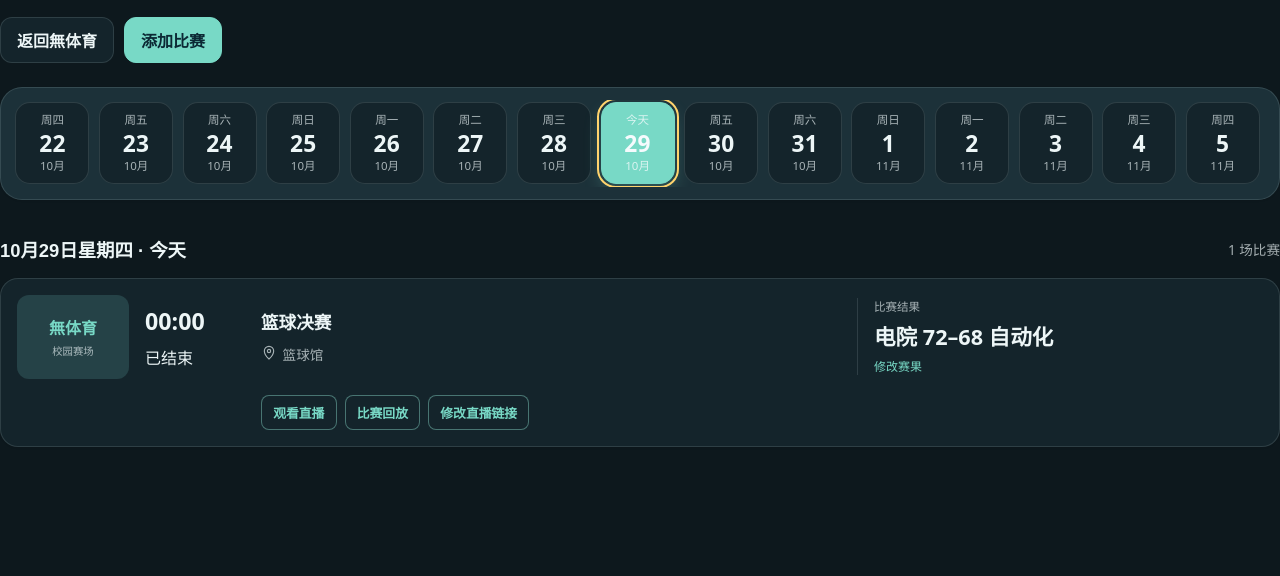
it: SportsMatchesPage › blocks unsafe live links before saving and permits removing a link
This screenshot has width=1280, height=576.
Click the button "修改直播链接" at point(479, 412), box left=428, top=395, right=529, bottom=430
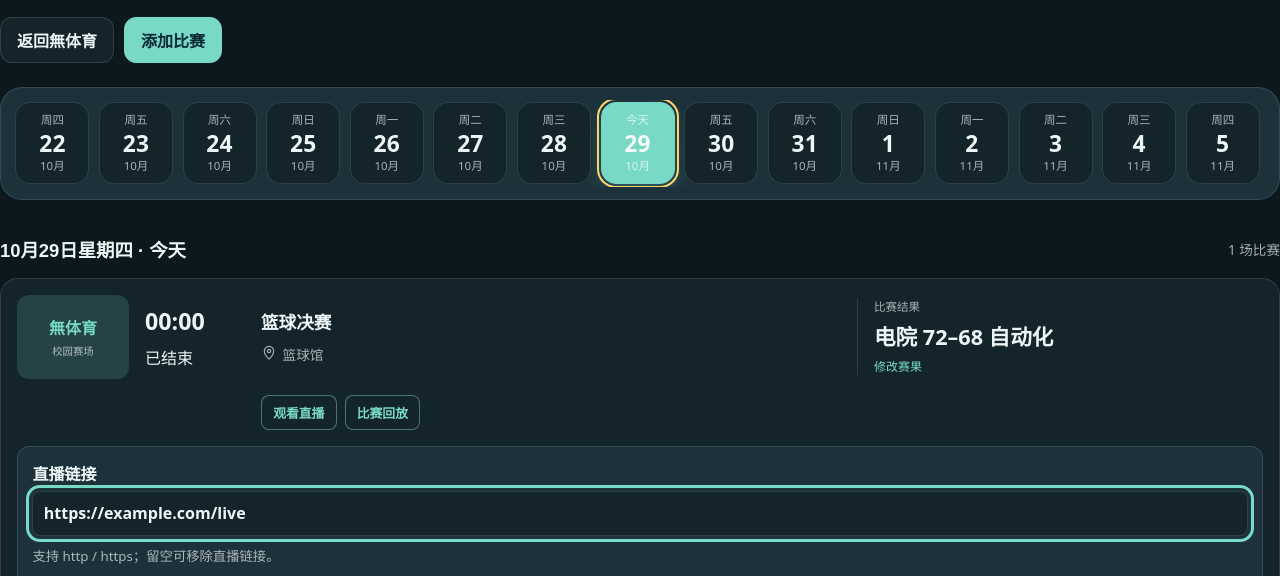
Replace the text in the field named "篮球决赛直播链接" with "javascript:alert(1)" at point(640, 513), box left=32, top=491, right=1248, bottom=536
(page scrolled)
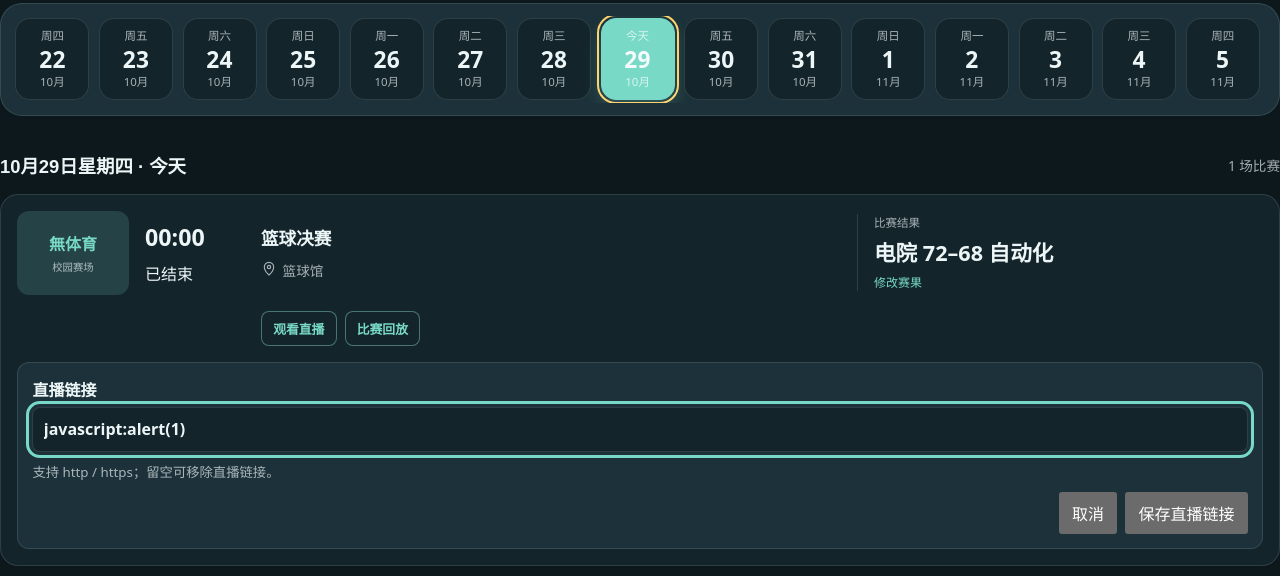
Submit the form, box left=17, top=362, right=1263, bottom=549
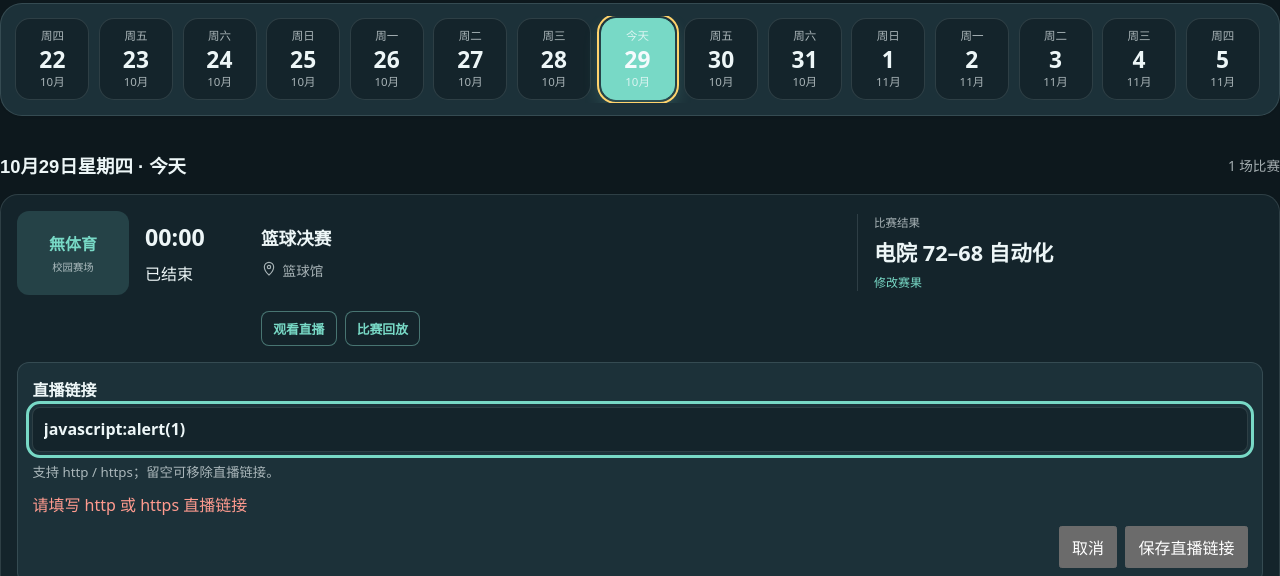
Check: the message shows "http 或 https", box left=32, top=494, right=247, bottom=516
Clear the field named "篮球决赛直播链接" at point(640, 429), box left=32, top=407, right=1248, bottom=452
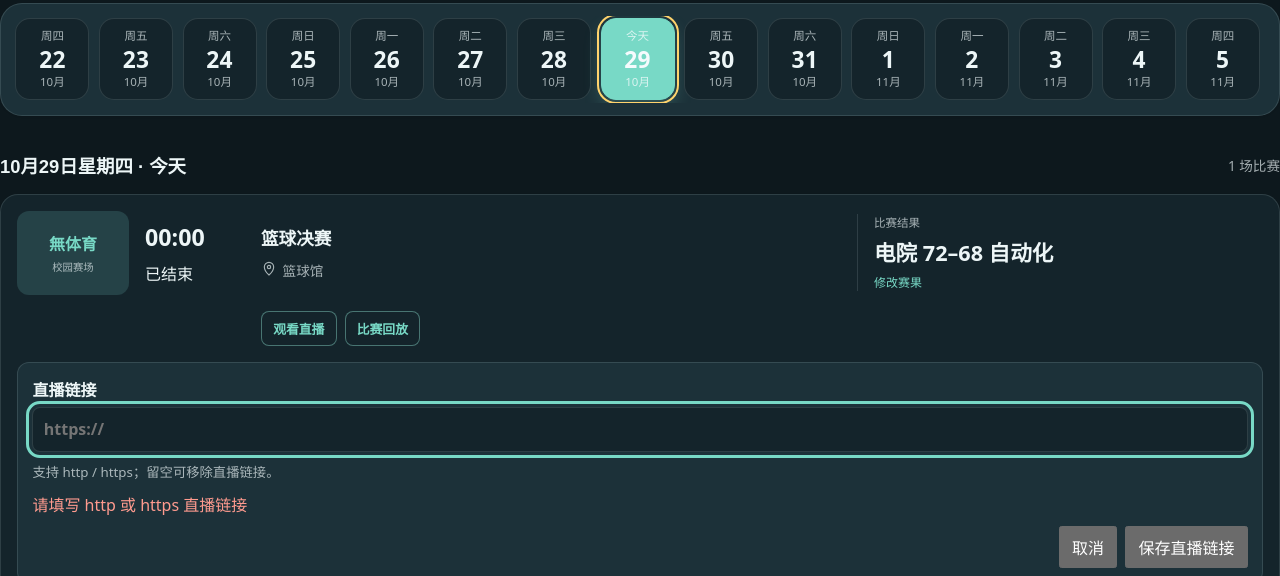
Click the button "保存直播链接" at point(1186, 547), box left=1125, top=526, right=1248, bottom=568
(page scrolled)
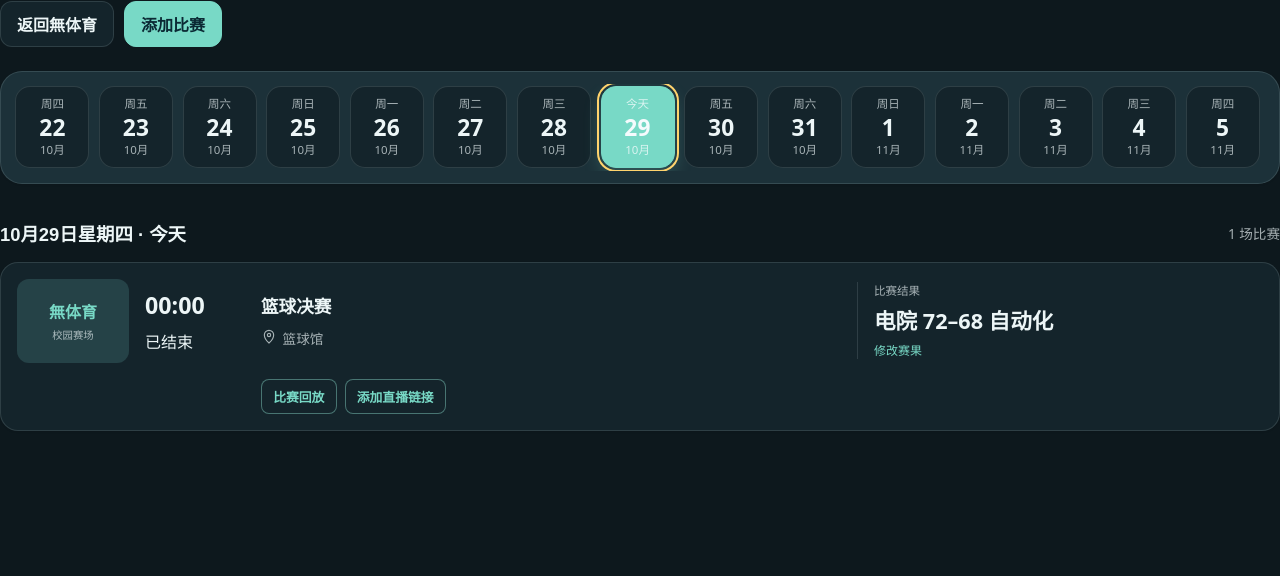
Check: the link "观看直播" is gone
